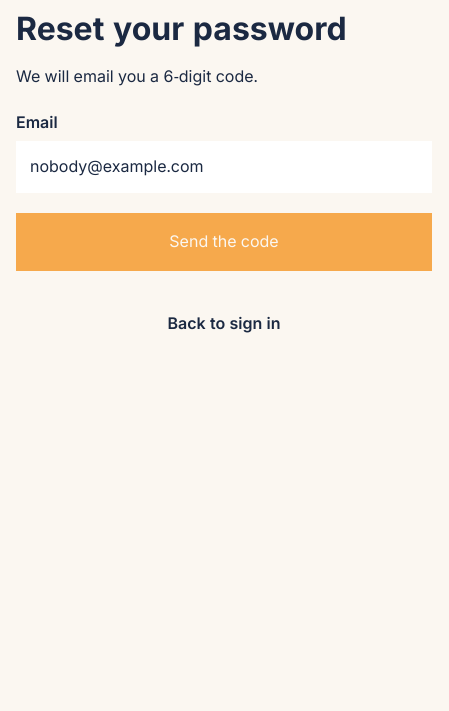
Scenario: the account-enumeration fix › an unknown address reaches the code step and is told the same thing
Click the button "Send the code" at (224, 242), box 16,213 -> 432,271
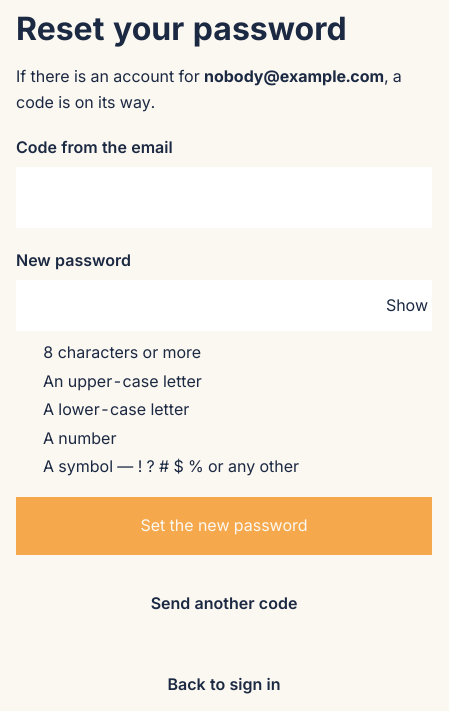
Result: the text "If there is an account for" is shown at 16,66 -> 200,86
